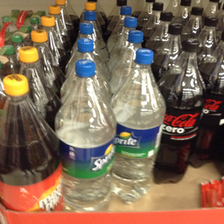soda: (56, 60, 116, 211), (1, 74, 63, 211), (114, 48, 166, 205), (158, 39, 206, 182)
